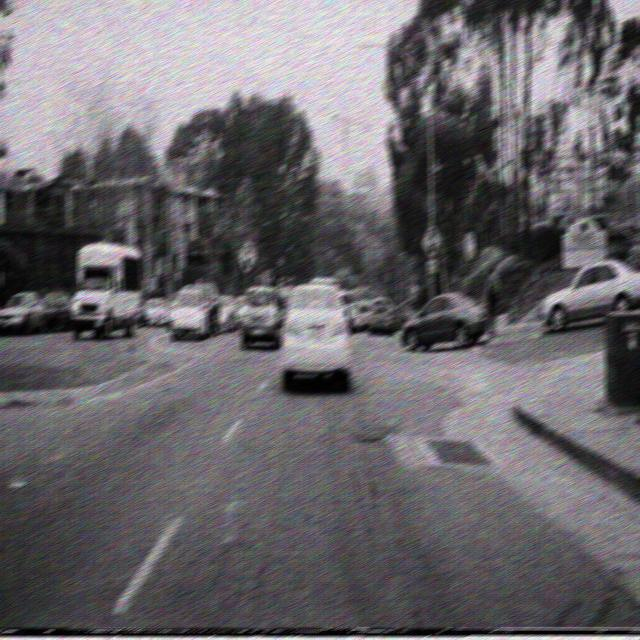stop: (464, 231, 476, 261)
